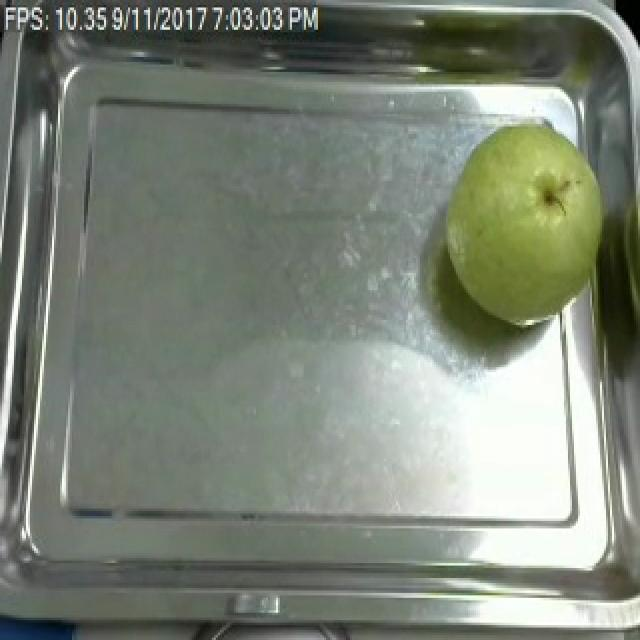Fruit: (432, 112, 620, 335)
